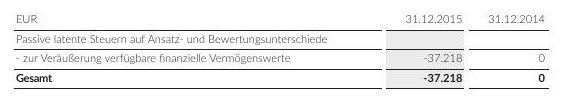table: (0, 0, 561, 101)
